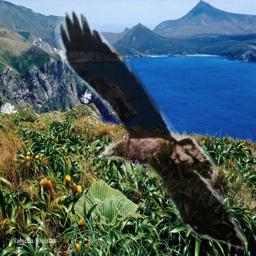Crow: (55, 7, 248, 253)
